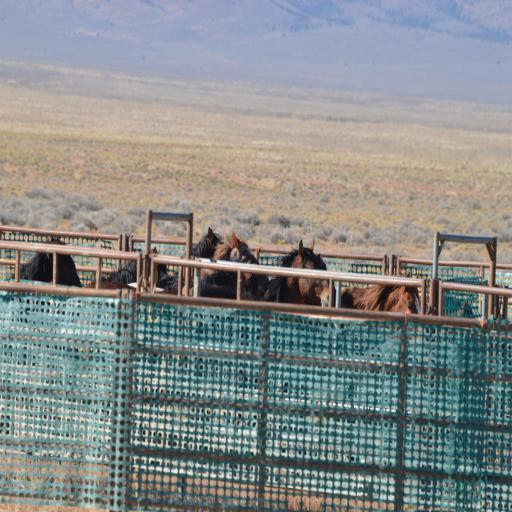horse: (4, 224, 424, 316)
